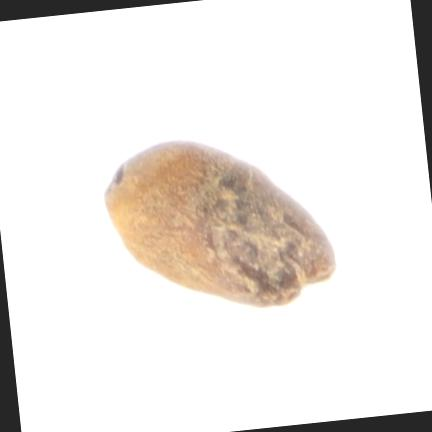partial-black: (104, 142, 335, 306), (105, 142, 335, 305)
